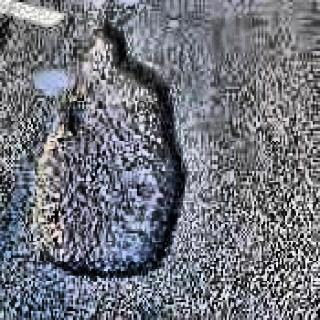pothole: (18, 13, 189, 288)
